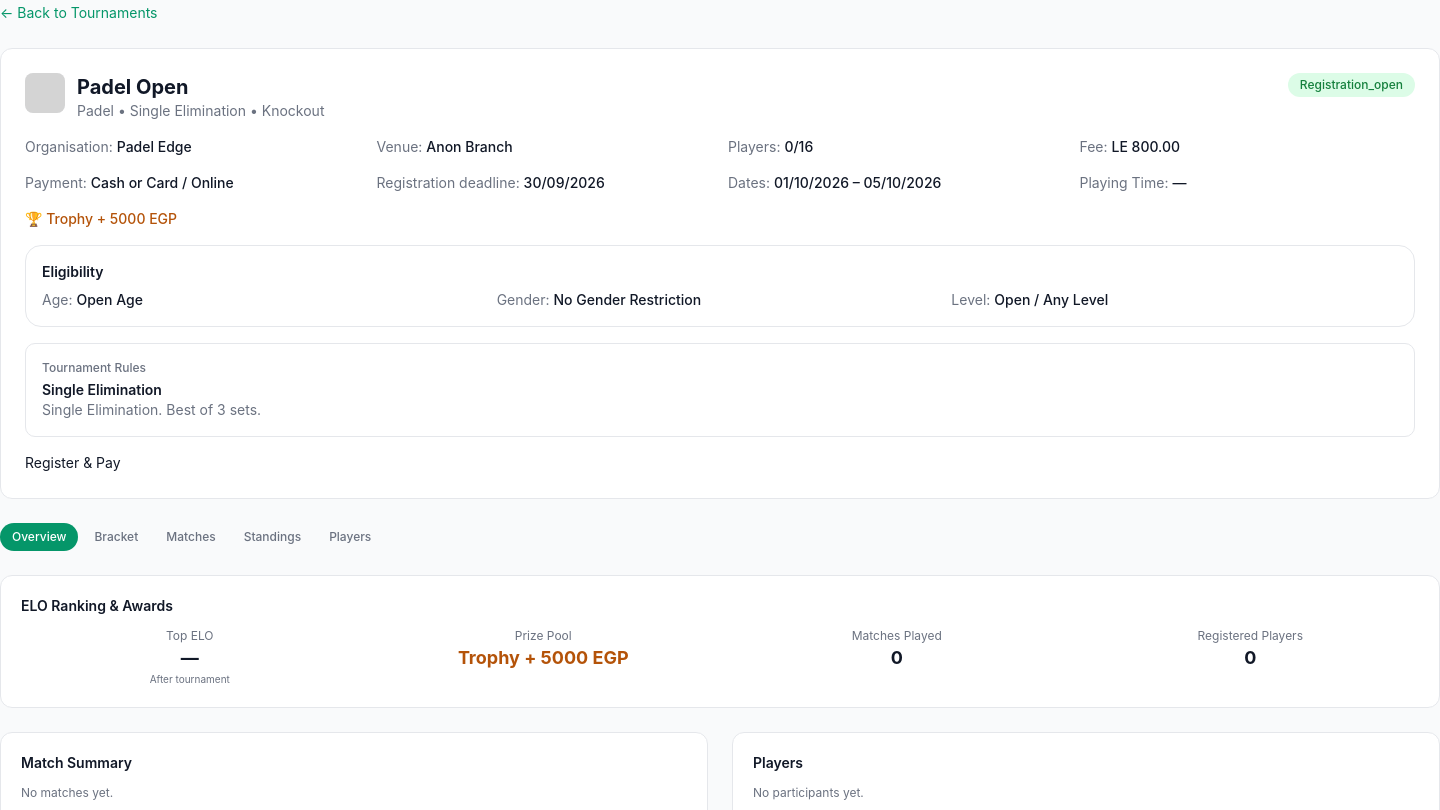
Scenario: TournamentDetailPage — F-02 remaining query failures (UX-12) › standings failure: error + Retry (never "No standings available yet.")
The width and height of the screenshot is (1440, 810).
Expected: the heading "Padel Open" is shown, [77,75,188,99]
Click the tab "Standings" at (272, 537), box [232,523,313,551]
(page scrolled)
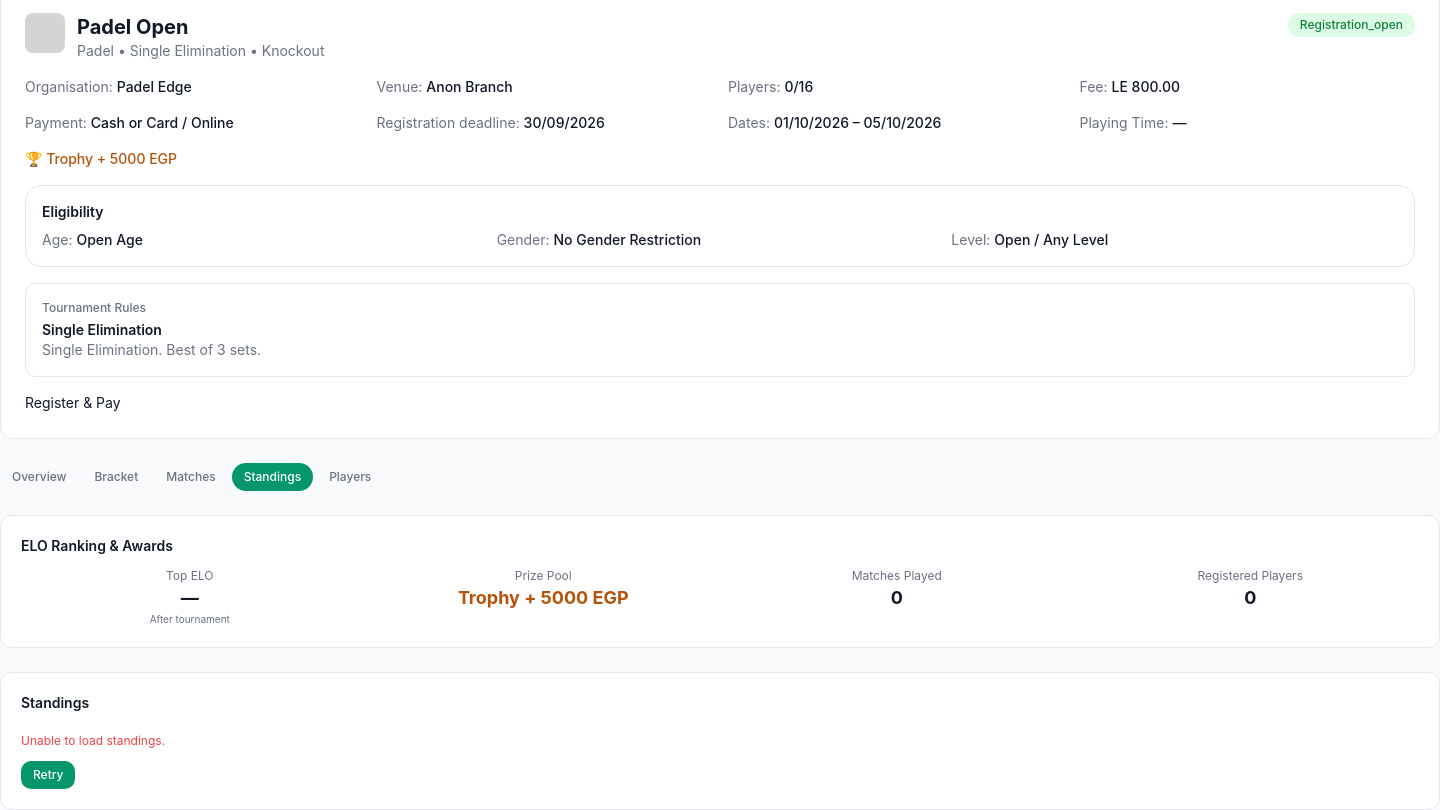
Expected: the tab "Standings" is shown, [232,463,313,491]
Now the text "Unable to load standings." is shown, box [21,733,165,748]
Now the button "Retry" is shown, box [21,761,76,789]
